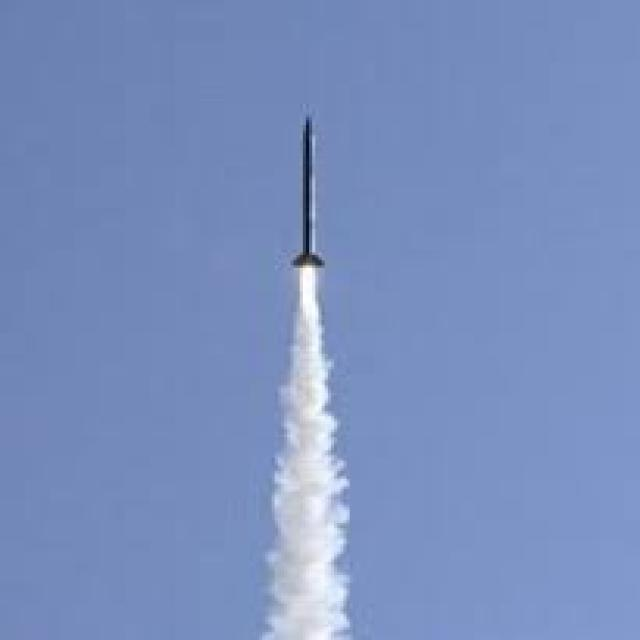Rocket: (289, 110, 327, 274)
